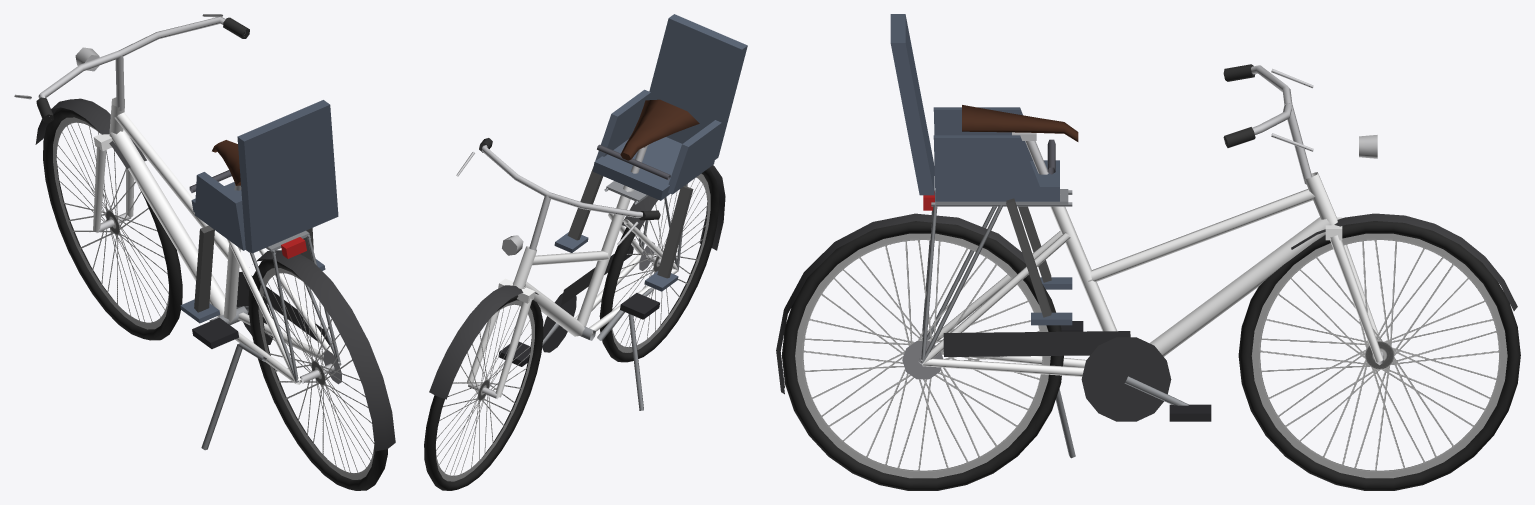
The model's file is kidseat_lean.glb.
The picture shows the model from 3 angles, left to right: view 1: azimuth 30°, elevation 25°; view 2: azimuth 150°, elevation 25°; view 3: azimuth 270°, elevation 25°; orthographic projection. The views are drawn at different scales.
Visible parts, largest first — view 1: bike; view 2: bike; view 3: bike.
Part boxes in pixels (x1,y1,x2,y2): bike: (14, 14, 395, 490); bike: (424, 14, 747, 490); bike: (776, 14, 1520, 490).
Bounding box in the file's own units: 0.6403 × 1.16 × 1.79.
1 material, 1 textured.
